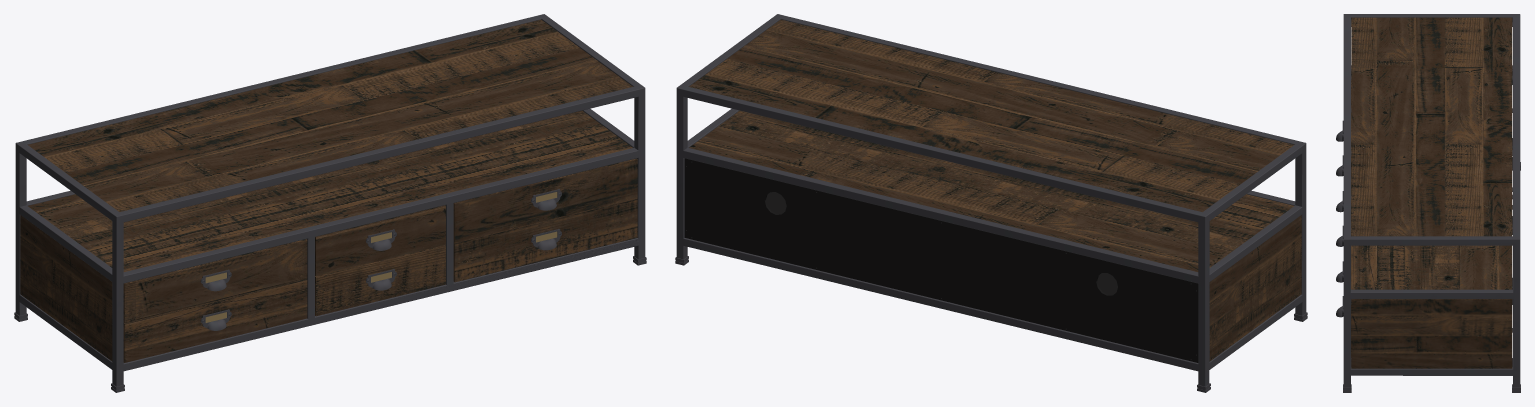
Rendered from example156.gltf.
3 renders of one model, left to right at view 1: azimuth 30°, elevation 25°; view 2: azimuth 150°, elevation 25°; view 3: azimuth 270°, elevation 25°, orthographic. The views are drawn at different scales.
Bounding box in the file's own units: 145 × 46 × 50.26.
Materials: 4 (2 with a texture image).
